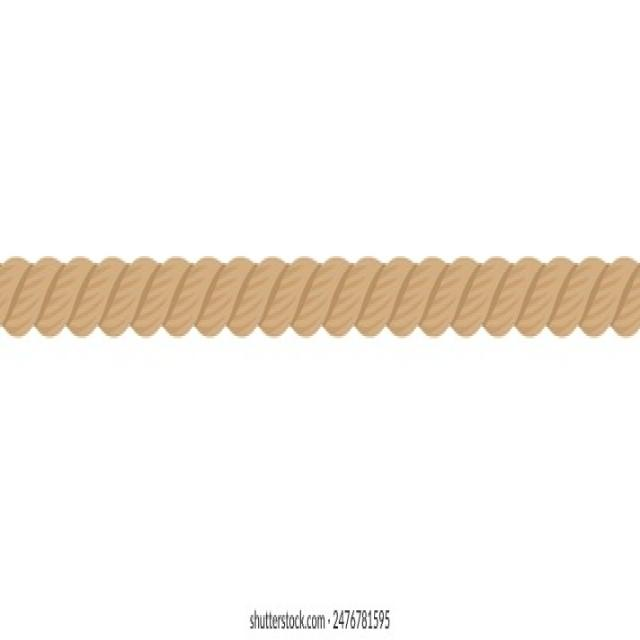Rope: (1, 240, 640, 345)
